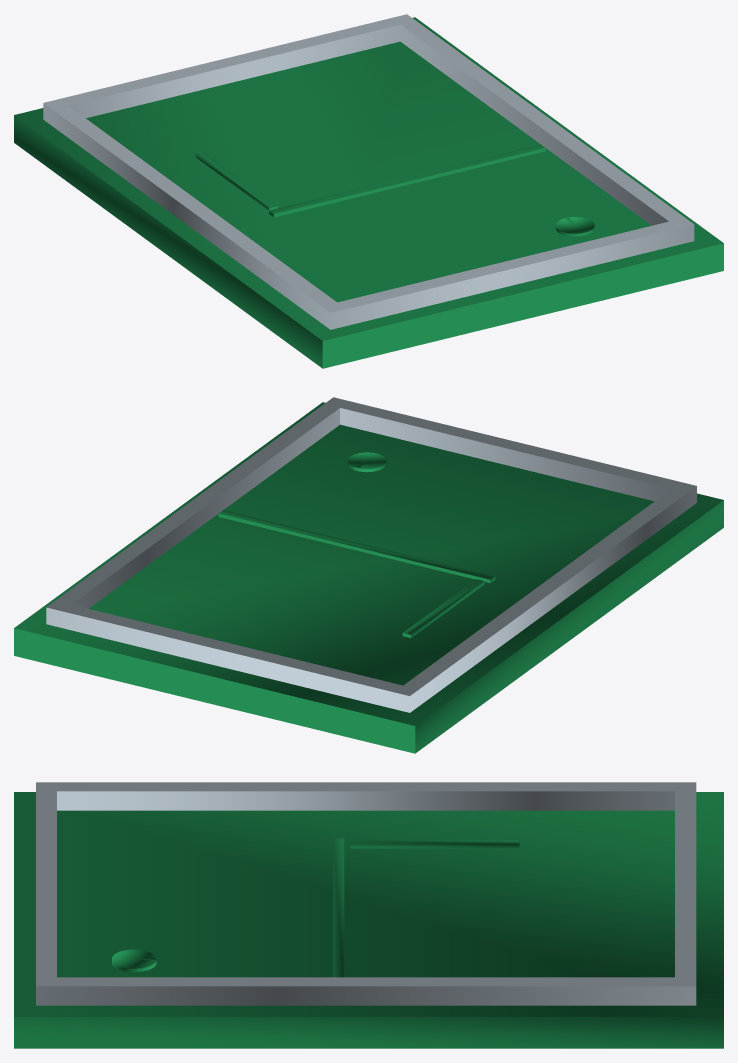
Rendered from Level24.fbx.
3 renders of one model, top to bottom at view 1: azimuth 30°, elevation 25°; view 2: azimuth 150°, elevation 25°; view 3: azimuth 270°, elevation 25°, orthographic. The views are drawn at different scales.
Parts seen in each view (by area): view 1: Box002, Rectangle0; view 2: Box002, Rectangle0; view 3: Box002, Rectangle0.
Boxes of the visible parts, bbox=[...] form: Box002: bbox=[14, 17, 723, 368]; Rectangle0: bbox=[43, 14, 694, 329]; Box002: bbox=[14, 402, 723, 753]; Rectangle0: bbox=[46, 397, 696, 712]; Box002: bbox=[14, 792, 723, 1048]; Rectangle0: bbox=[36, 782, 696, 1005].
Bounding box in the file's own units: 135 × 14.27 × 180.
